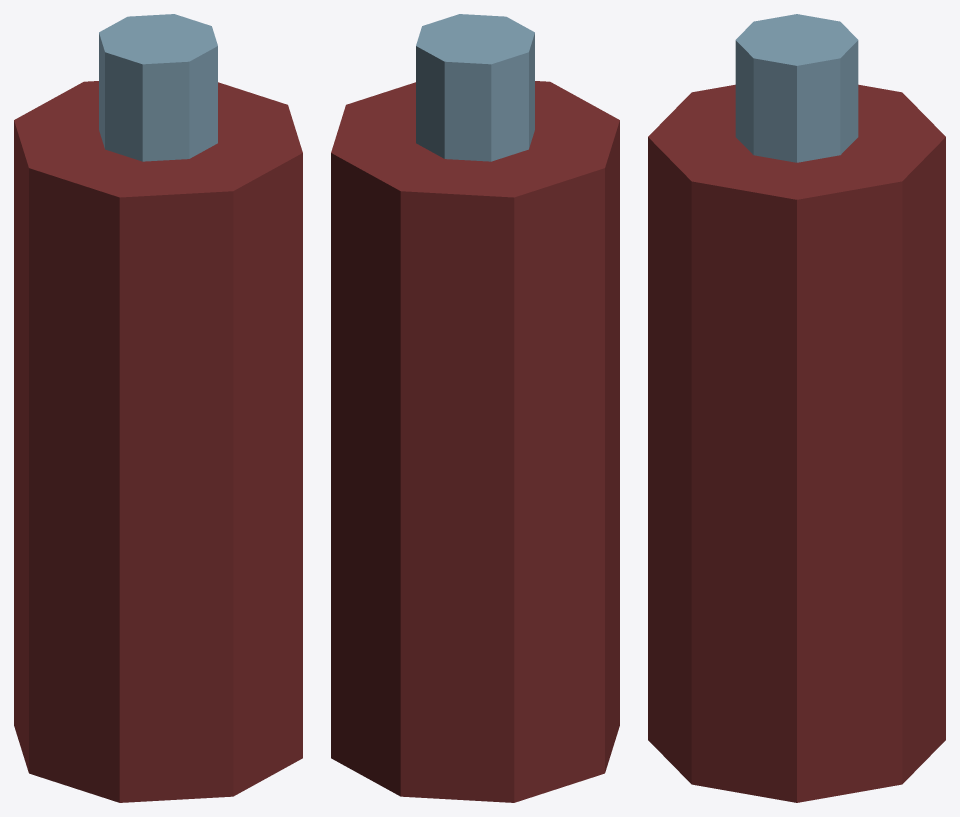
The model's file is Bathroom2_Bottle_2.fbx.
3 views of the same model, side by side, from view 1: azimuth 30°, elevation 25°; view 2: azimuth 150°, elevation 25°; view 3: azimuth 270°, elevation 25° (orthographic).
Parts seen in each view (by area): view 1: Bathroom2_Bottle2; view 2: Bathroom2_Bottle2; view 3: Bathroom2_Bottle2.
Part boxes in pixels (x1=…): Bathroom2_Bottle2: x1=14, y1=14, x2=302, y2=802; Bathroom2_Bottle2: x1=331, y1=14, x2=619, y2=802; Bathroom2_Bottle2: x1=648, y1=14, x2=945, y2=802.
Size of the model in its own units: 12.72 by 32.96 by 12.72.
